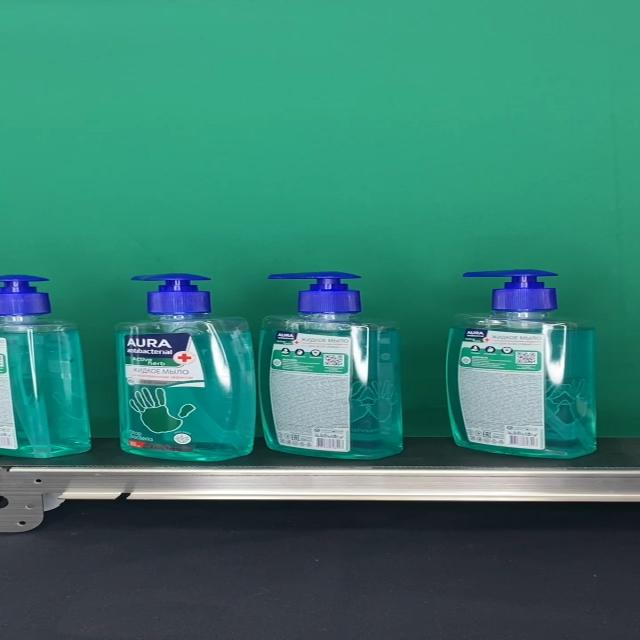Bottle: (446, 270, 596, 458), (258, 272, 404, 459), (117, 273, 256, 461)
Cap: (461, 269, 561, 313), (268, 272, 364, 315), (131, 273, 213, 315)
